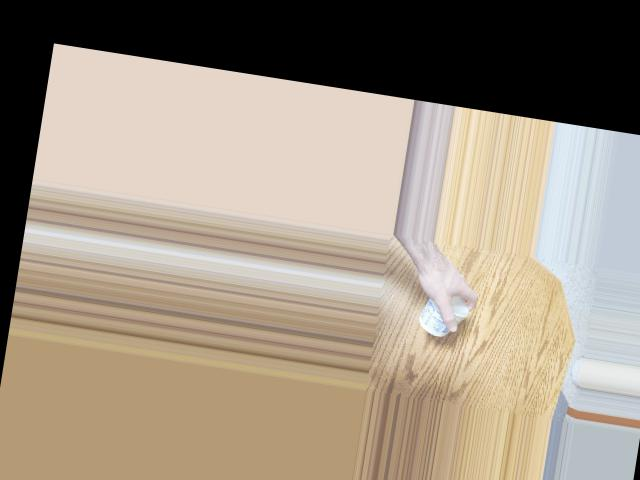cotage: (411, 291, 473, 342)
